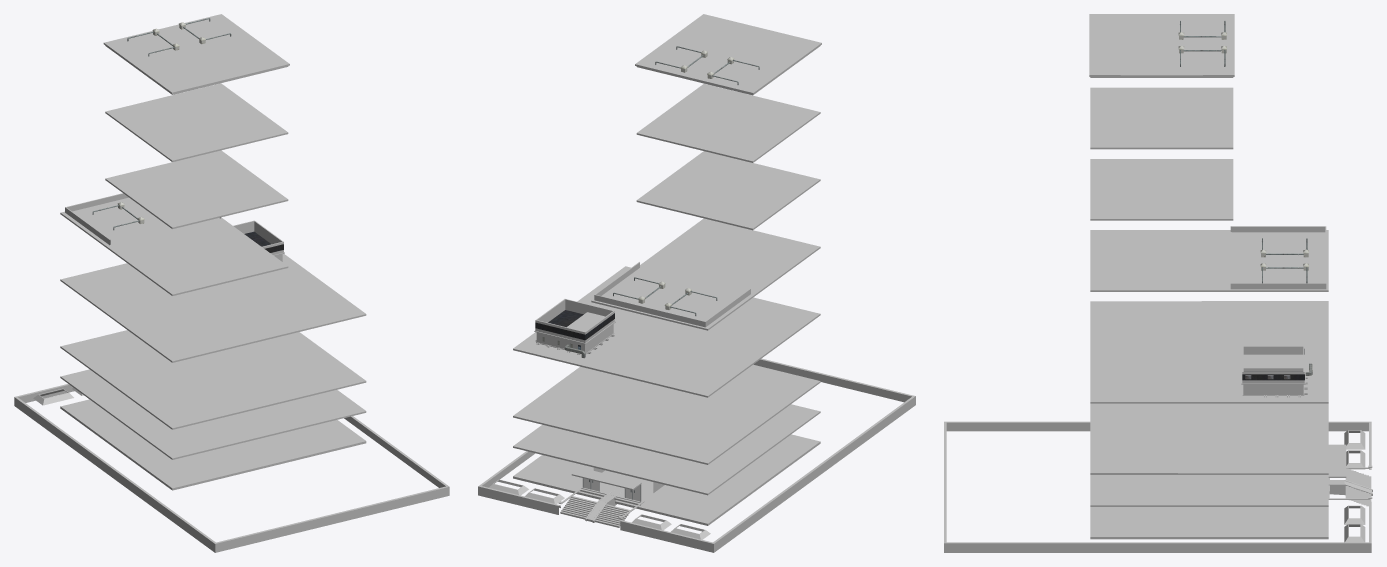
Rendered from u2SWBuild5.gltf.
3 views of the same model, side by side, from view 1: azimuth 30°, elevation 25°; view 2: azimuth 150°, elevation 25°; view 3: azimuth 270°, elevation 25° (orthographic). The views are drawn at different scales.
Parts seen in each view (by area): view 1: u2SWBuild5; view 2: u2SWBuild5; view 3: u2SWBuild5.
Part boxes in pixels (box(x1,y1,x2,y2)): u2SWBuild5: box(14, 14, 449, 552); u2SWBuild5: box(478, 14, 915, 552); u2SWBuild5: box(944, 14, 1372, 552).
Bounding box in the file's own units: 16.47 × 27.53 × 24.5.
